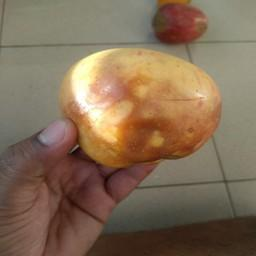Bad_apple: (61, 46, 219, 161)
